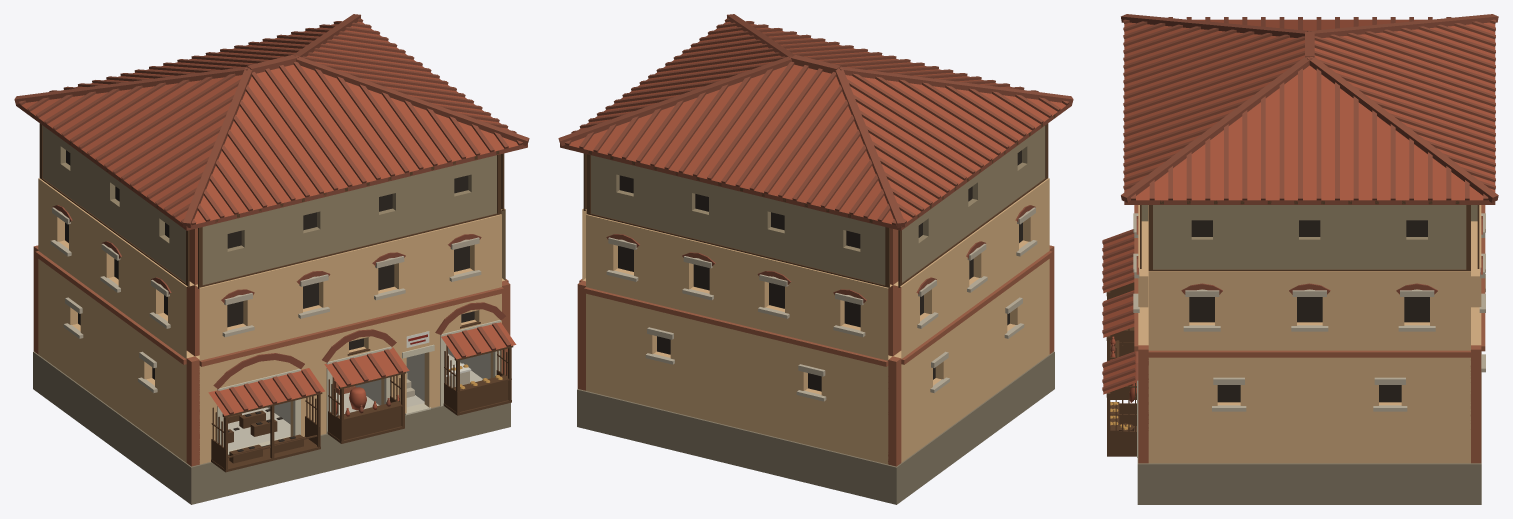
Rendered from rome_insula_p.glb.
The picture shows the model from 3 angles, left to right: view 1: azimuth 30°, elevation 25°; view 2: azimuth 150°, elevation 25°; view 3: azimuth 270°, elevation 25°; orthographic projection. The views are drawn at different scales.
Parts seen in each view (by area): view 1: rome_insula_p; view 2: rome_insula_p; view 3: rome_insula_p.
Boxes of the visible parts, box(x1,y1,x2,y2) form: rome_insula_p: box(14, 14, 529, 504); rome_insula_p: box(558, 14, 1073, 504); rome_insula_p: box(1102, 14, 1498, 504).
Size of the model in its own units: 15.25 by 14.55 by 13.9.
